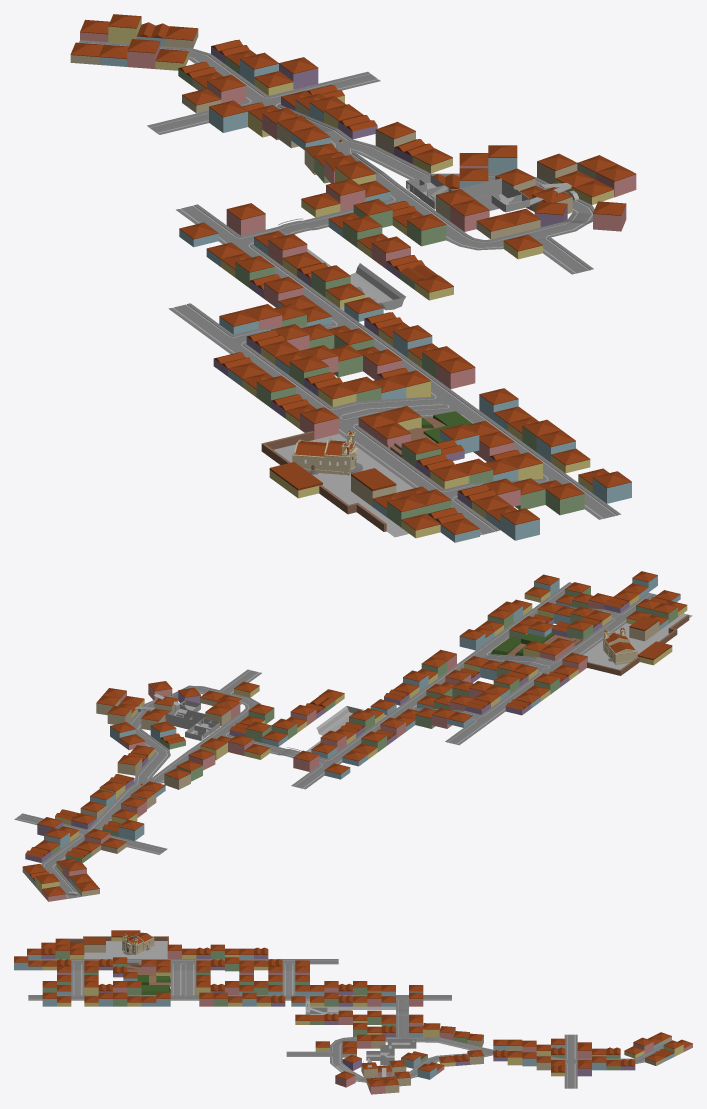
Rendered from trajeto5.fbx.
3 renders of one model, top to bottom at view 1: azimuth 30°, elevation 25°; view 2: azimuth 150°, elevation 25°; view 3: azimuth 270°, elevation 25°, orthographic. The views are drawn at different scales.
Visible parts, largest first — view 1: pPlane321, pasted__sunDirection1, pCube318, pCube321, pPlane310, pCube320, Casa_B_26, Casa_B_37, Casa_B_71, Casa_B_69, Casa_B_84, Casa_B_70 (+35 smaller); view 2: pPlane321, pasted__sunDirection1, pCube318, pCube320, pCube321, pPlane310, pCube237; view 3: pPlane321, pasted__sunDirection1, polySurface25, Rua_A_26, Rua_A_30, Rua_A_35, Rua_A_18, Rua_A_4, pCube320, Rua_A_5, polySurface29.
Part boxes in pixels (<box>): pPlane321: <box>273,434,413,537</box>; pasted__sunDirection1: <box>292,428,363,475</box>; pCube318: <box>261,431,386,531</box>; pCube321: <box>269,462,322,498</box>; pPlane310: <box>350,263,405,310</box>; pCube320: <box>351,468,396,506</box>; Casa_B_26: <box>407,213,446,246</box>; Casa_B_37: <box>226,203,265,235</box>; Casa_B_71: <box>500,508,539,540</box>; Casa_B_69: <box>592,471,631,503</box>; Casa_B_84: <box>436,356,475,389</box>; Casa_B_70: <box>545,482,584,515</box>; pPlane321: <box>583,613,692,669</box>; pasted__sunDirection1: <box>603,626,637,665</box>; pCube318: <box>587,614,689,675</box>; pCube320: <box>629,616,659,641</box>; pCube321: <box>637,641,672,665</box>; pPlane310: <box>316,706,362,735</box>; pCube237: <box>166,708,205,729</box>; pPlane321: <box>84,941,167,958</box>; pasted__sunDirection1: <box>122,932,154,955</box>; polySurface25: <box>310,1006,395,1014</box>; Rua_A_26: <box>282,970,295,995</box>; Rua_A_30: <box>71,970,84,995</box>; Rua_A_35: <box>183,970,196,995</box>; Rua_A_18: <box>170,970,183,995</box>; Rua_A_4: <box>564,1064,577,1088</box>; pCube320: <box>84,938,105,952</box>; Rua_A_5: <box>564,1034,577,1058</box>; polySurface29: <box>127,964,170,986</box>.
Bounding box in the file's own units: 240 × 31.06 × 473.
